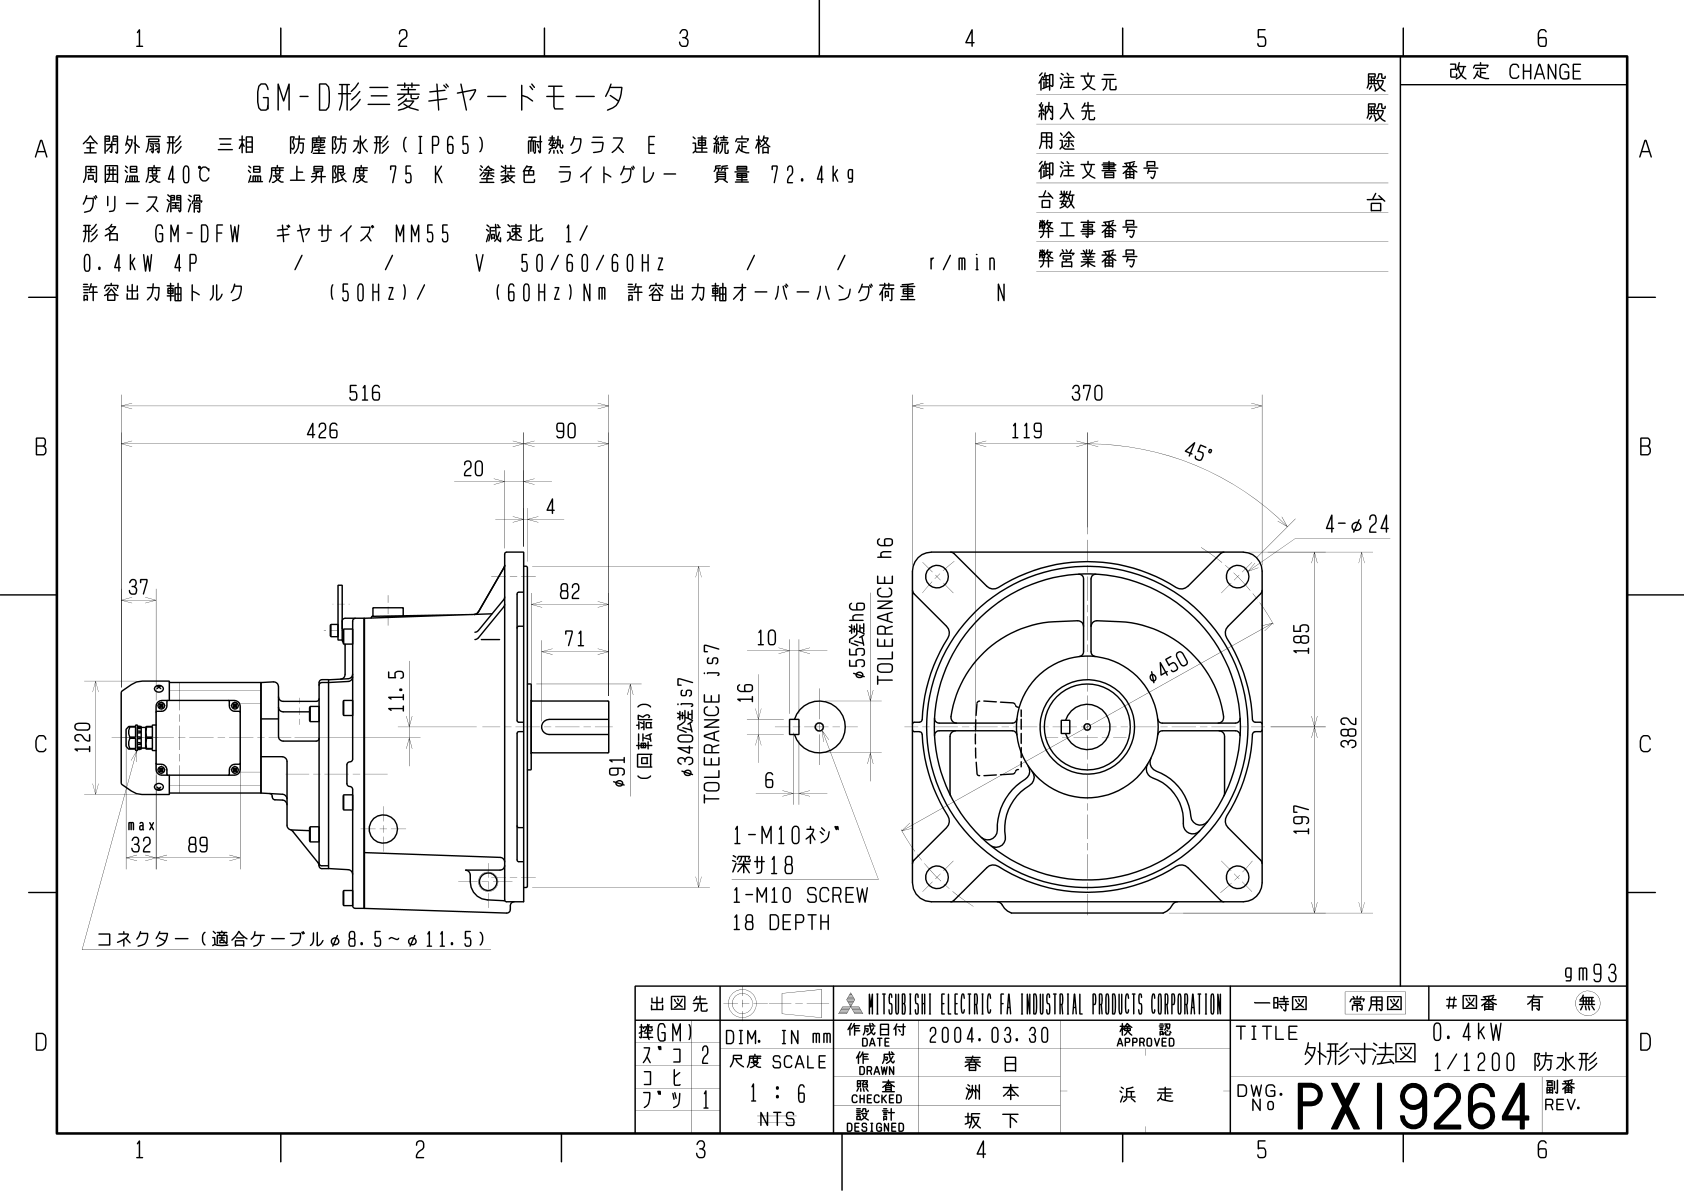GM_D_IP65_三相_フランジ: (1, 1, 1676, 1182)
